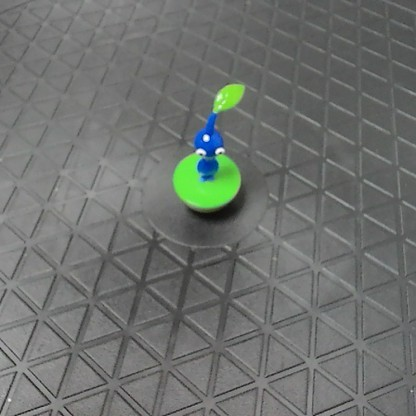leafairy: (166, 77, 246, 216)
